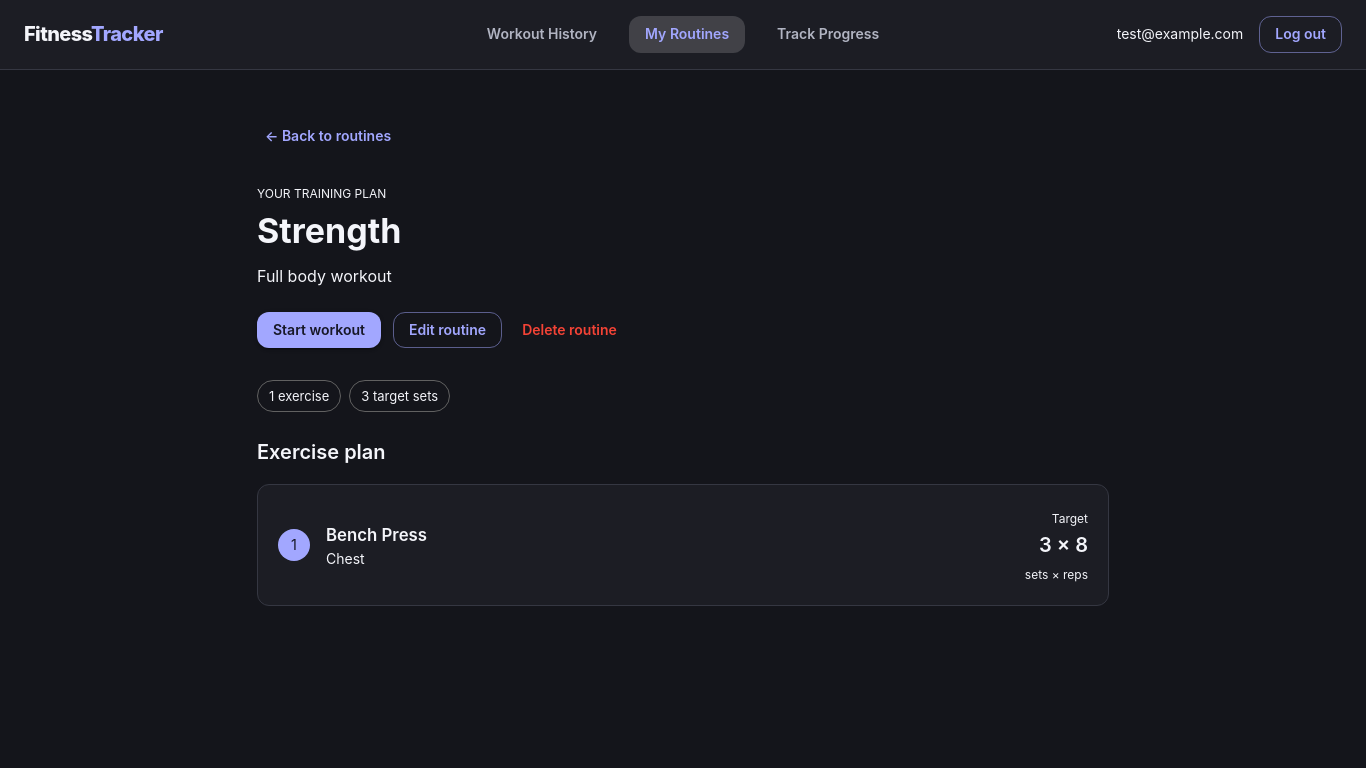
Test: Routines › deletes the routine after confirmation
The width and height of the screenshot is (1366, 768).
Click the button "Delete routine".
click(570, 331)  # box [514, 312, 625, 349]
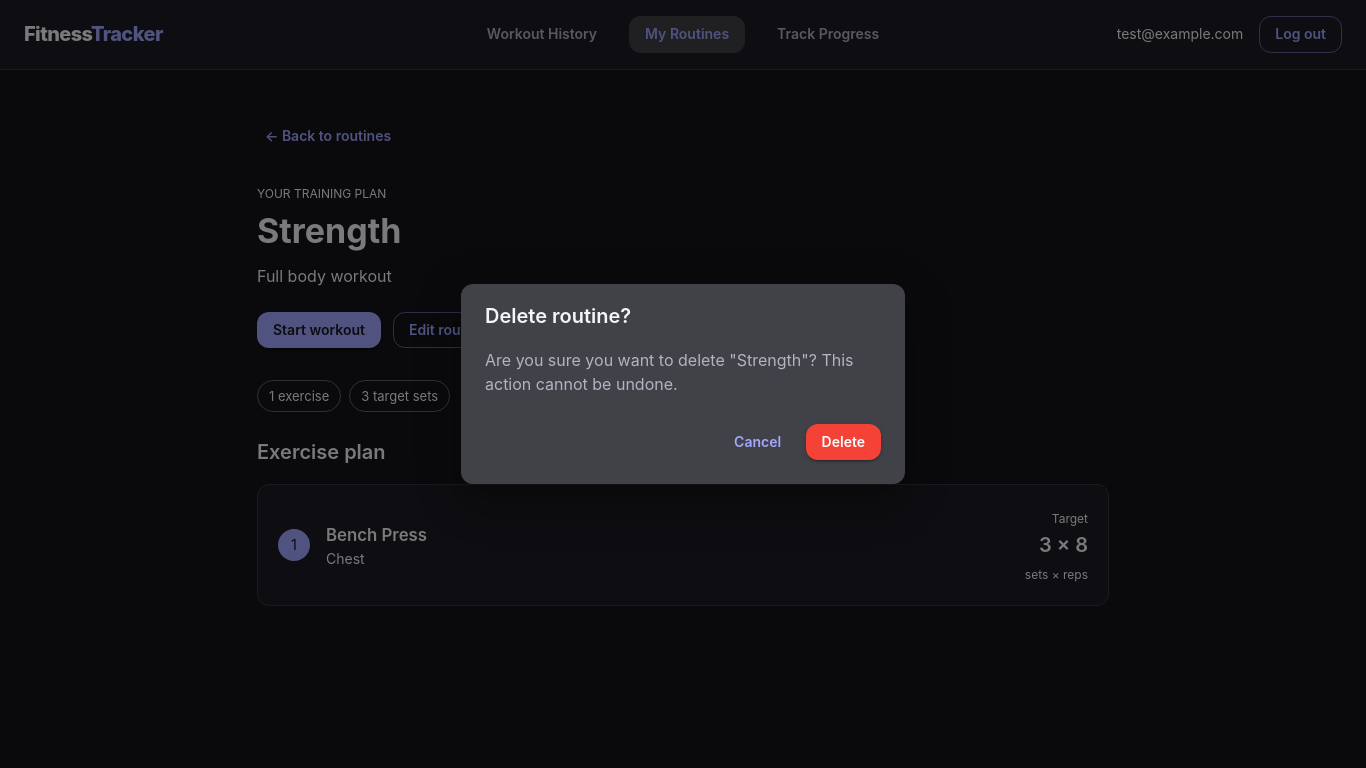
Click the button "Delete".
click(844, 443)  # box [806, 424, 881, 461]
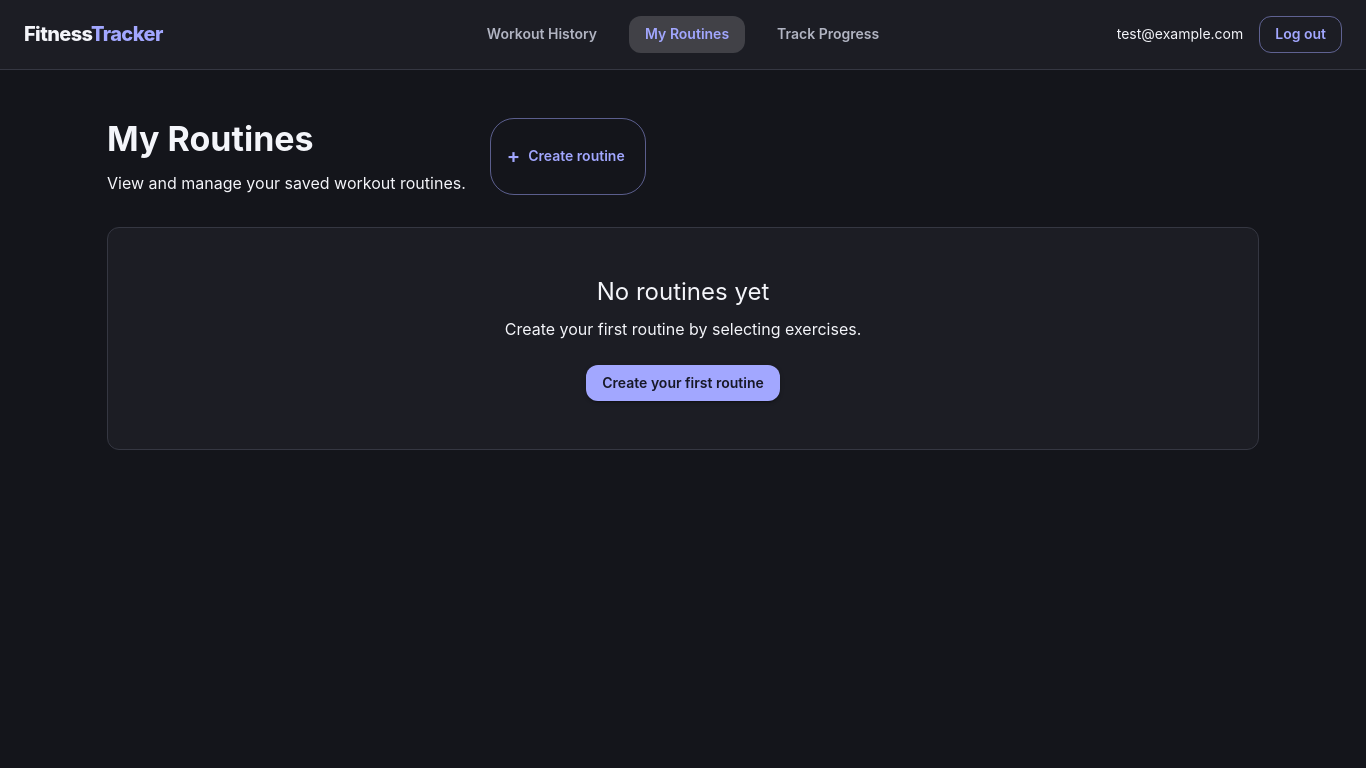
Result: the dialog is gone
Result: the heading "No routines yet" is shown at [597, 278, 769, 306]
